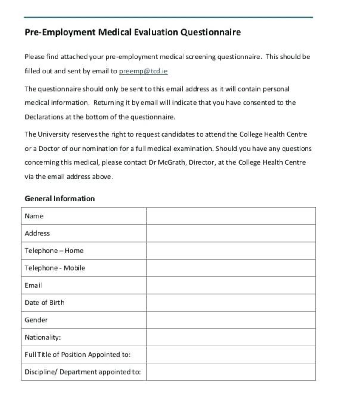textbox: (144, 359, 318, 383), (143, 309, 320, 332), (142, 223, 318, 246), (143, 205, 318, 228), (143, 255, 318, 278), (143, 292, 318, 315), (143, 343, 318, 366), (142, 240, 322, 262), (143, 327, 320, 349), (144, 274, 318, 296)
